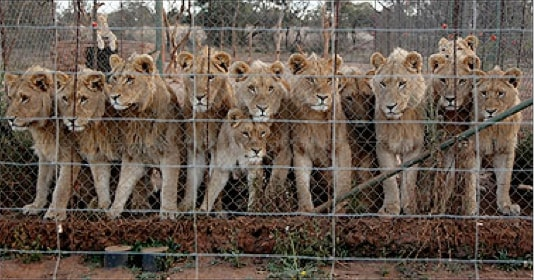lion: (107, 54, 180, 223), (285, 52, 358, 209), (371, 49, 428, 218), (230, 61, 290, 221), (48, 68, 112, 218), (466, 67, 521, 220), (4, 69, 56, 220), (427, 53, 479, 203), (178, 45, 222, 221), (333, 67, 385, 203), (210, 109, 269, 209), (432, 31, 482, 59)
